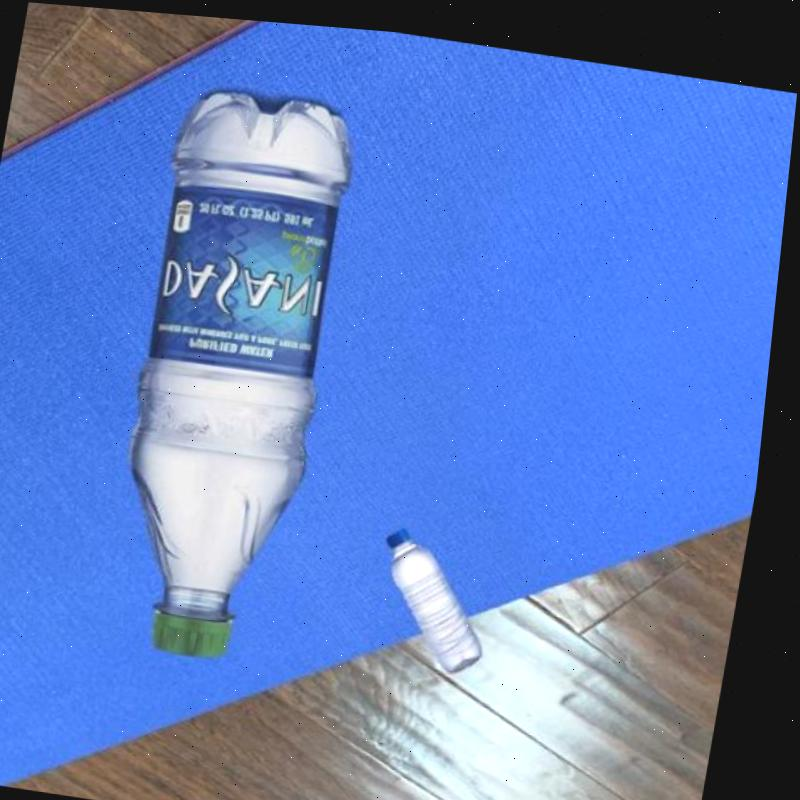botella: (99, 76, 373, 667), (374, 517, 513, 669)
